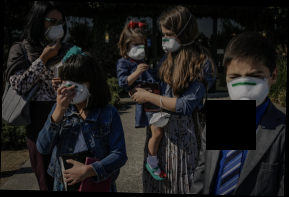with_mask: (225, 67, 272, 110), (61, 78, 90, 107), (44, 16, 67, 44), (161, 29, 183, 54), (128, 40, 147, 61)
